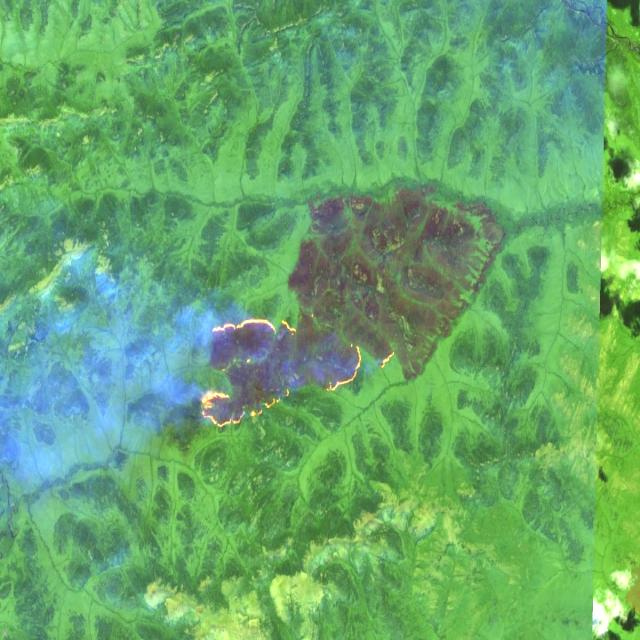fire: (198, 305, 362, 435)
